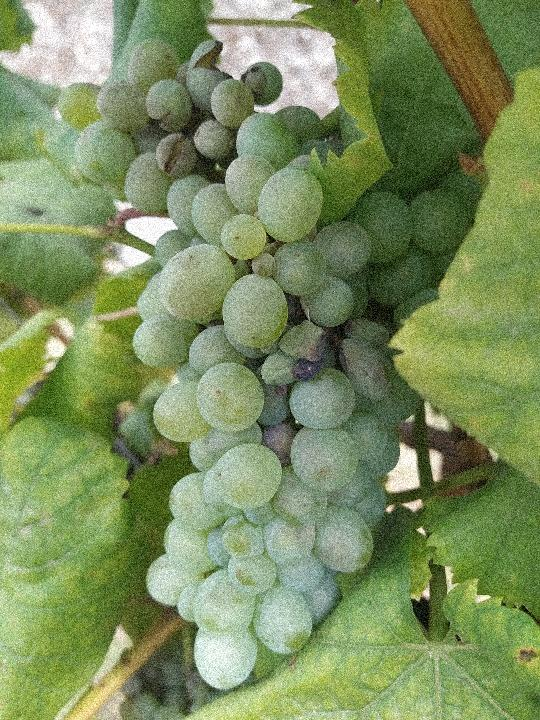grape: (72, 36, 469, 695)
